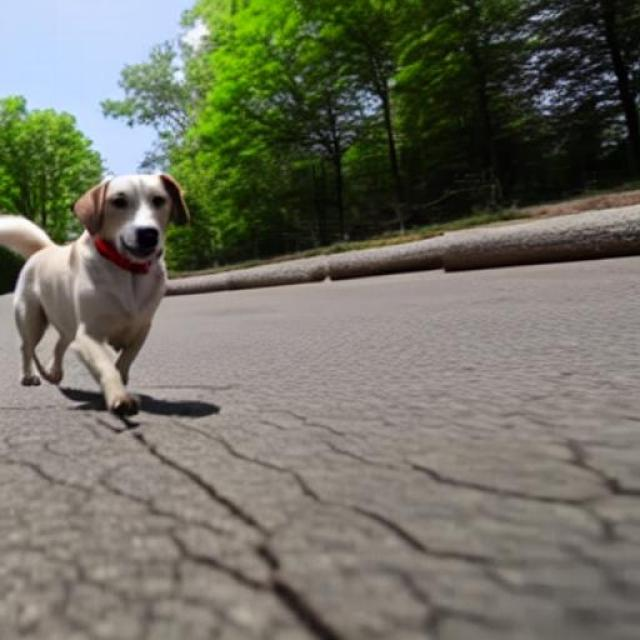Dog: (0, 170, 189, 418)
